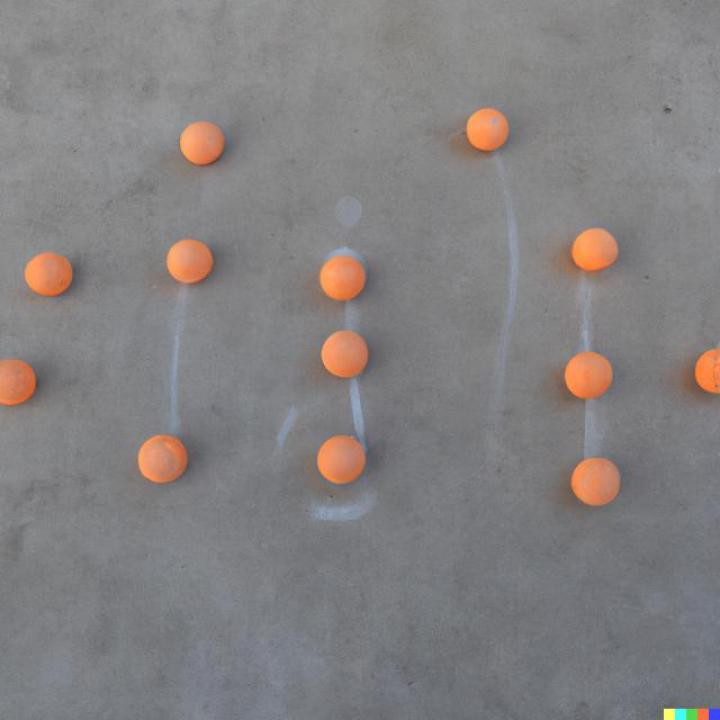orange: (316, 435, 366, 484), (138, 435, 188, 483), (571, 458, 620, 506), (322, 330, 369, 379), (564, 352, 613, 398), (25, 252, 74, 296), (318, 256, 367, 300), (167, 239, 214, 284), (180, 122, 225, 166), (573, 228, 618, 272), (466, 108, 509, 151), (1, 359, 36, 405), (695, 348, 720, 393)
